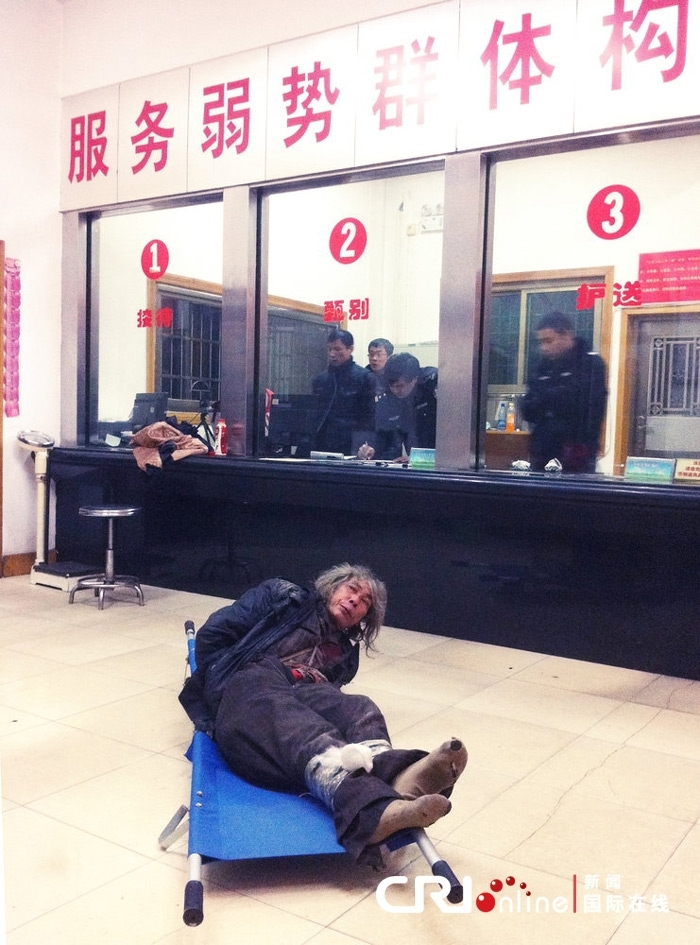fall: (168, 539, 480, 892)
